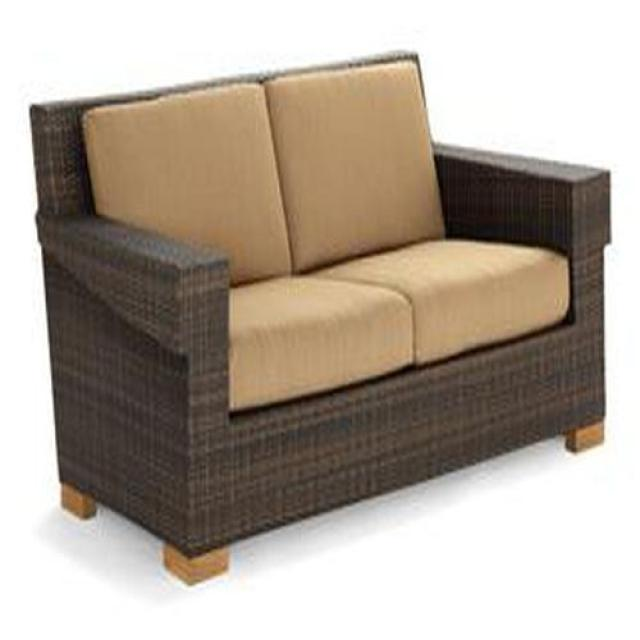sofa: (28, 50, 613, 585)
